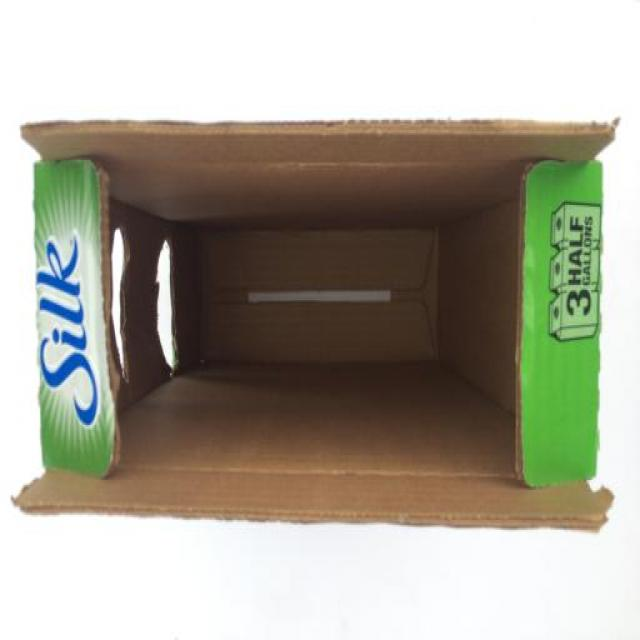cardboard: (7, 91, 623, 575)
